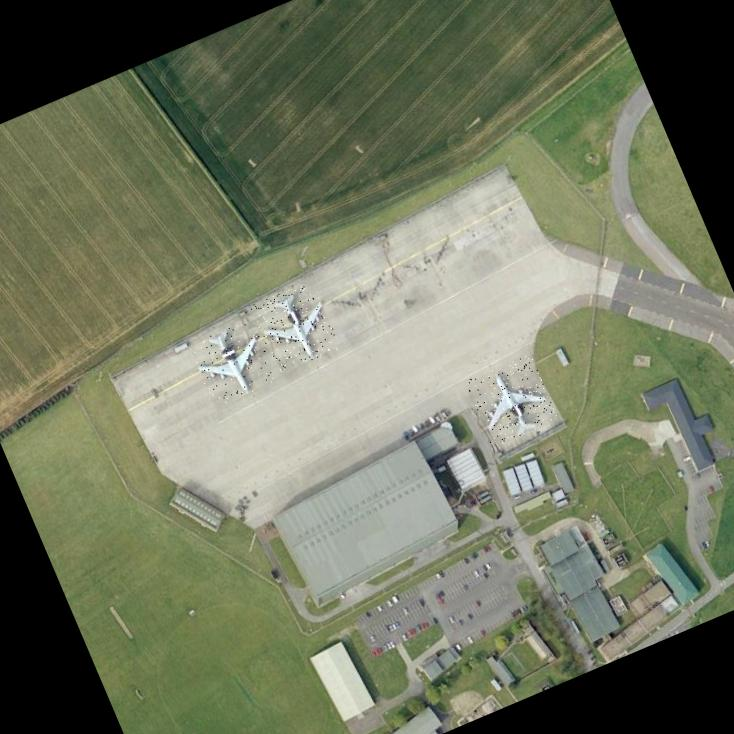A7: (250, 279, 342, 375), (465, 353, 558, 447), (188, 318, 278, 408)
